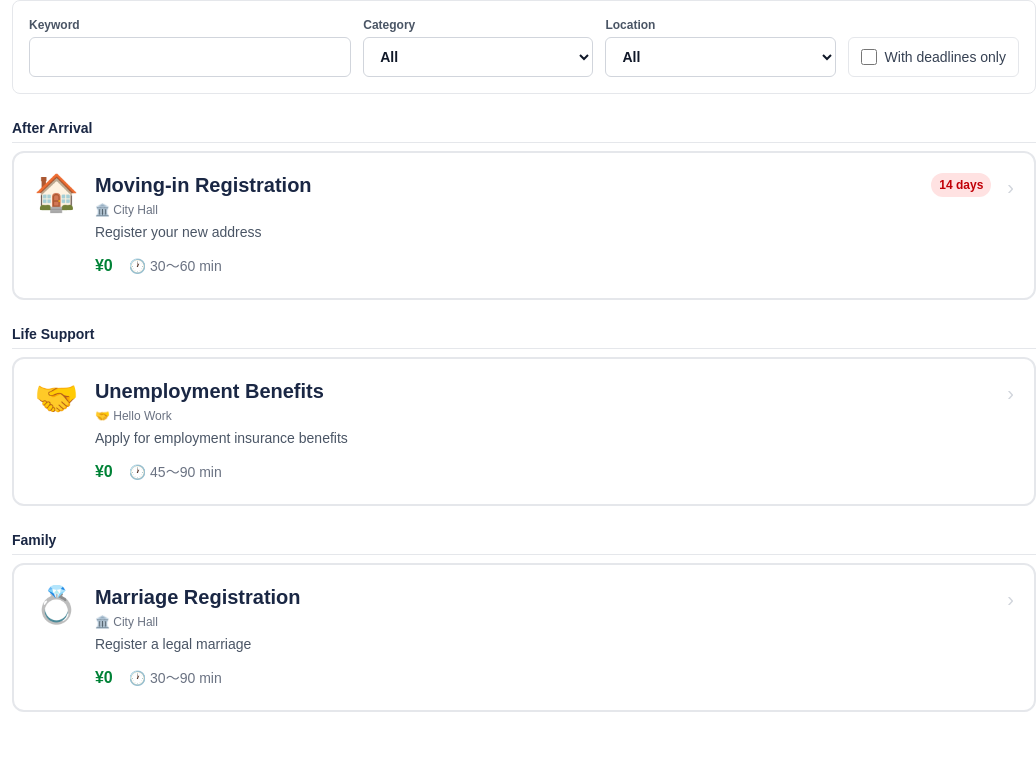
Test: ProcedureFilter › filters by deadline
What coordinates should you click on to do the following:
click the checkbox labelled "With deadlines only"
I would click on:
 (869, 57)
Its box is [861,49,877,65].
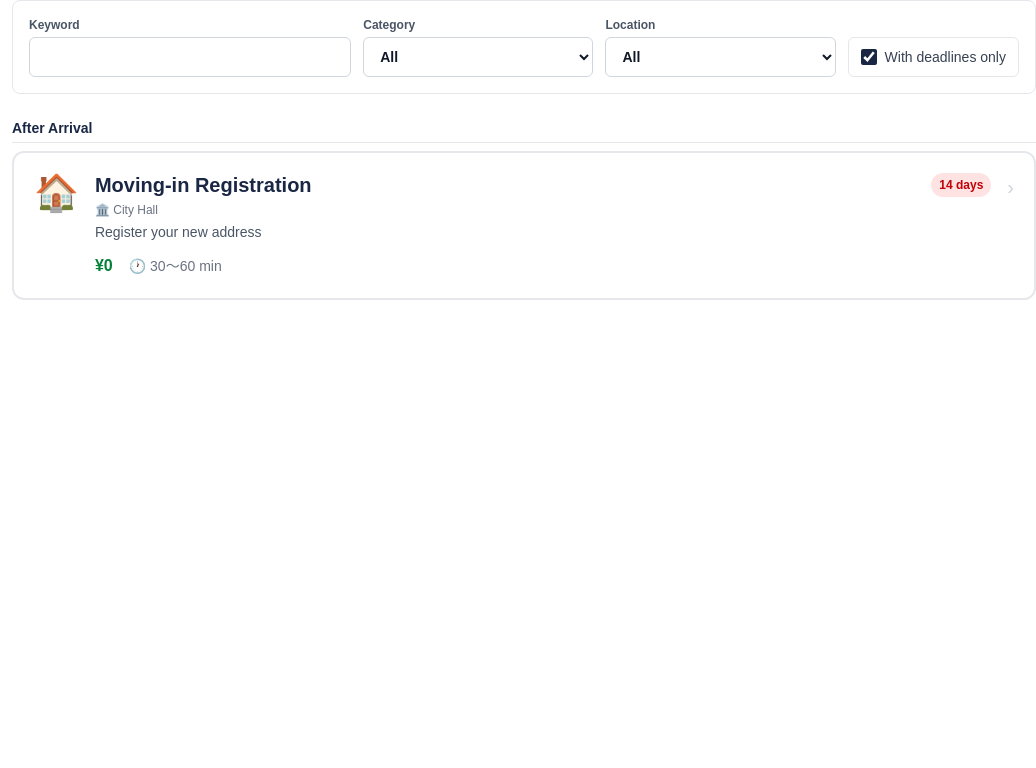
Check: the heading "Moving-in Registration" is shown, box [95,173,312,198]
Check: the link "Marriage Registration" is gone
